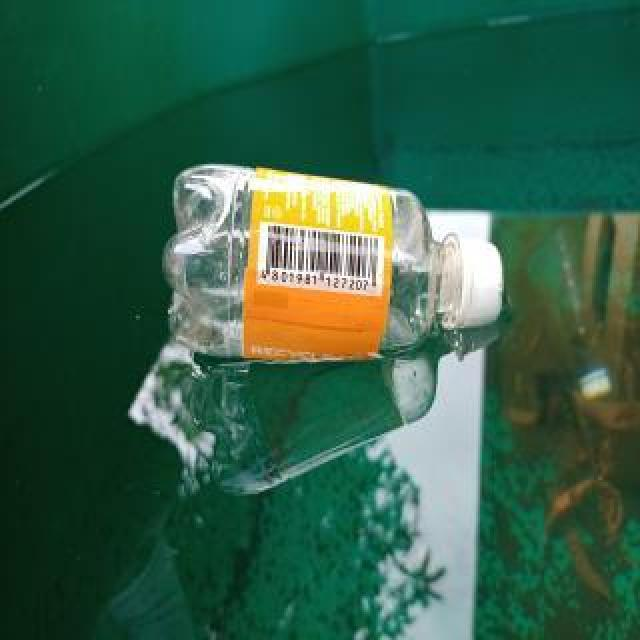Bottle: (156, 154, 514, 378)
